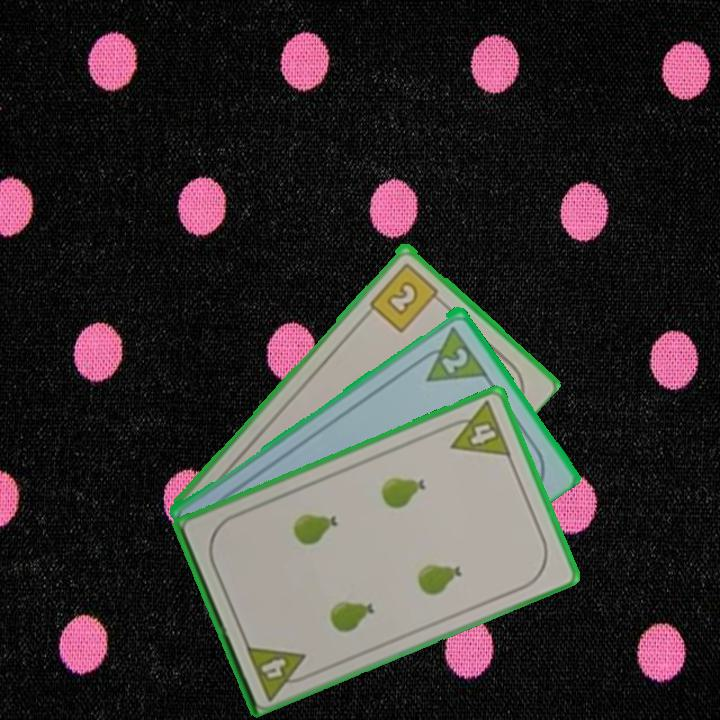2b: (365, 258, 446, 335)
2p: (437, 343, 471, 376)
4p: (439, 397, 514, 459), (242, 640, 315, 702)
